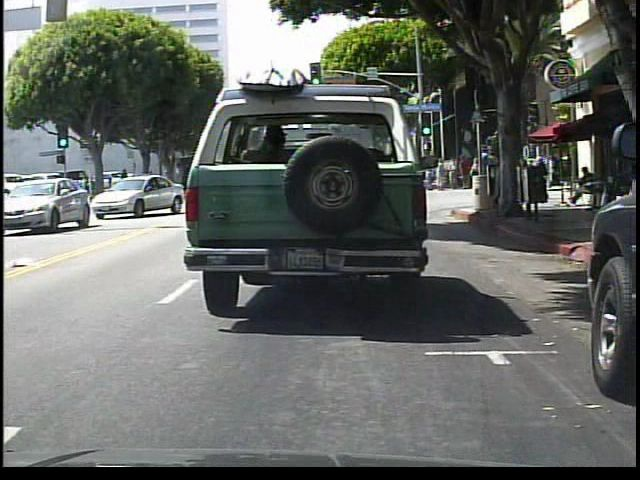person: (501, 150, 519, 216), (570, 165, 597, 207), (480, 147, 496, 205), (468, 156, 482, 204), (536, 158, 549, 201), (527, 164, 539, 202), (436, 162, 449, 195), (448, 157, 459, 190), (426, 169, 436, 193), (464, 156, 469, 190)
